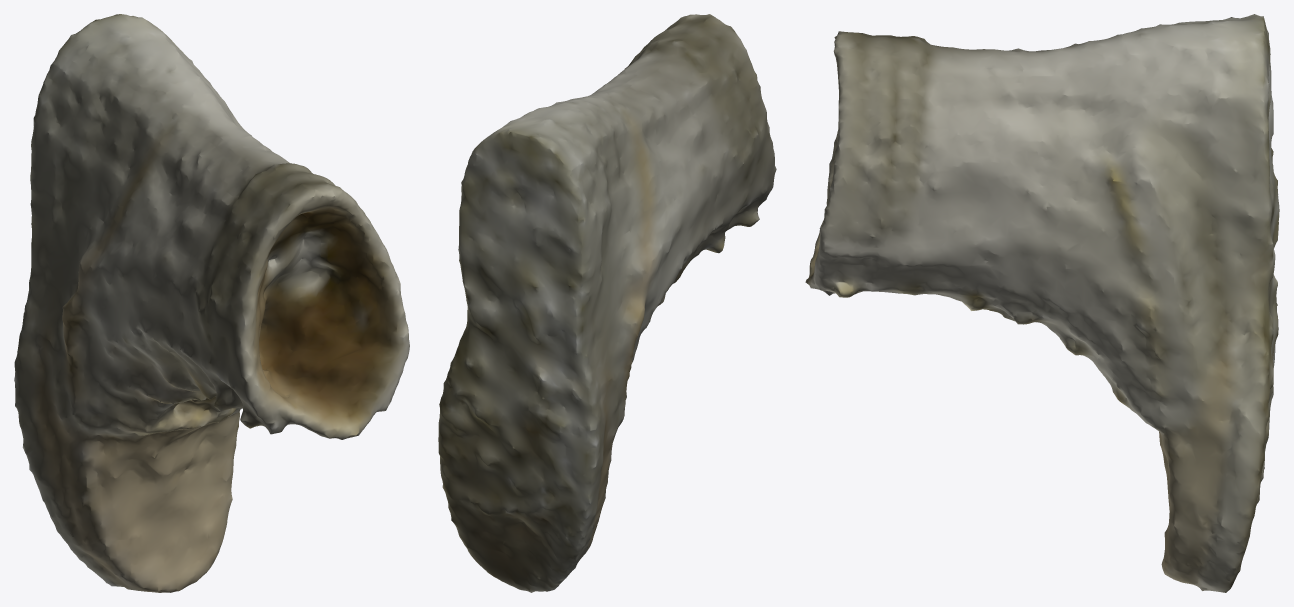
File: shoe1.glb
3 renders of one model, left to right at view 1: azimuth 30°, elevation 25°; view 2: azimuth 150°, elevation 25°; view 3: azimuth 270°, elevation 25°, orthographic. The views are drawn at different scales.
Size of the model in its own units: 0.3635 by 0.9945 by 0.7771.
